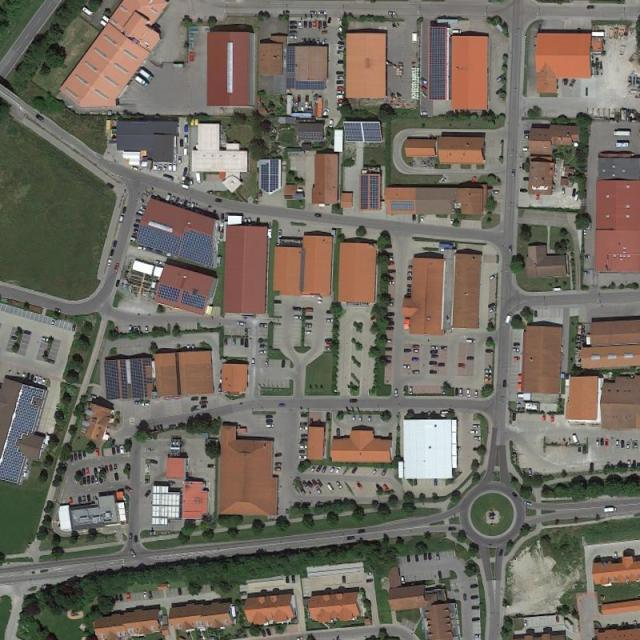vehicle: (134, 75, 150, 89), (138, 68, 154, 82), (571, 433, 582, 446), (81, 6, 94, 17), (504, 312, 513, 326), (495, 73, 506, 83), (327, 482, 336, 494), (355, 481, 365, 491), (381, 466, 389, 478), (36, 114, 46, 123), (382, 483, 391, 493), (605, 506, 617, 513), (574, 190, 581, 202), (335, 481, 344, 490), (130, 549, 138, 559), (299, 486, 307, 496), (470, 175, 478, 185), (419, 77, 429, 85), (125, 486, 134, 494), (106, 182, 115, 190), (302, 480, 310, 489), (370, 313, 379, 321), (489, 273, 498, 281), (420, 90, 428, 99), (420, 85, 429, 93), (180, 183, 190, 190), (372, 466, 379, 476), (162, 163, 169, 173), (148, 591, 154, 602), (337, 33, 345, 41), (47, 358, 56, 365), (316, 464, 323, 473), (126, 592, 132, 602), (94, 476, 100, 486), (523, 500, 533, 506), (184, 146, 190, 156), (266, 628, 273, 636), (145, 490, 152, 498), (150, 458, 158, 465), (335, 466, 342, 474), (351, 466, 358, 474), (470, 583, 478, 590), (511, 491, 518, 499), (488, 302, 496, 309), (323, 109, 330, 117), (496, 88, 504, 95), (174, 197, 180, 206), (170, 196, 176, 205), (119, 215, 125, 224), (107, 258, 113, 267), (317, 479, 323, 488), (114, 473, 120, 482), (316, 486, 322, 495), (258, 323, 268, 328), (237, 321, 247, 326), (95, 448, 100, 458), (90, 475, 95, 485), (472, 424, 482, 429), (528, 468, 533, 478), (466, 339, 476, 344), (197, 174, 202, 184), (184, 134, 189, 144), (307, 481, 314, 488), (489, 307, 496, 314), (122, 206, 128, 214), (114, 263, 120, 271), (330, 466, 336, 474), (322, 466, 328, 474), (311, 465, 317, 473), (414, 554, 420, 562), (338, 18, 344, 26), (338, 25, 344, 33), (392, 22, 398, 30), (342, 575, 347, 584), (285, 575, 290, 584), (261, 629, 266, 638), (26, 373, 31, 382), (258, 350, 267, 355), (72, 322, 77, 331), (113, 240, 118, 249), (120, 446, 125, 455), (634, 440, 639, 449), (620, 440, 625, 449), (470, 594, 479, 599), (401, 576, 406, 585), (436, 552, 441, 561), (406, 554, 411, 563), (347, 536, 356, 541), (385, 302, 394, 307), (130, 166, 139, 171), (420, 213, 425, 222), (323, 342, 334, 346), (384, 313, 395, 317), (406, 277, 417, 281), (406, 272, 417, 276), (312, 479, 318, 486), (110, 439, 116, 446), (87, 494, 92, 502), (291, 575, 296, 583), (10, 335, 18, 340), (24, 330, 32, 335), (42, 337, 50, 342), (51, 318, 56, 326), (155, 260, 163, 265), (116, 279, 121, 287), (142, 402, 150, 407), (199, 401, 209, 405), (337, 428, 341, 438), (274, 453, 282, 458), (474, 436, 482, 441), (350, 398, 358, 403), (590, 462, 594, 472), (463, 594, 468, 602), (366, 578, 374, 583), (627, 460, 632, 468), (383, 347, 393, 351), (386, 270, 396, 274), (404, 349, 412, 354), (472, 617, 480, 622), (338, 86, 346, 91), (313, 20, 318, 28), (389, 11, 397, 16), (523, 177, 533, 181), (452, 30, 462, 34), (129, 533, 133, 542), (245, 338, 249, 347), (266, 358, 270, 367), (327, 310, 336, 314), (138, 246, 147, 250), (325, 338, 334, 342), (324, 347, 333, 351), (87, 476, 91, 485), (202, 404, 208, 410), (300, 426, 309, 430), (470, 430, 479, 434), (471, 606, 480, 610), (449, 526, 458, 530), (430, 346, 439, 350), (385, 326, 394, 330), (407, 290, 416, 294), (408, 266, 417, 270), (455, 388, 459, 397), (459, 389, 463, 398), (511, 348, 520, 352), (337, 51, 346, 55), (524, 130, 533, 134), (55, 308, 62, 313), (34, 376, 39, 383), (191, 397, 198, 402), (300, 455, 307, 460), (312, 39, 317, 46), (322, 31, 329, 36), (179, 199, 184, 206), (178, 587, 182, 595), (143, 591, 147, 599), (119, 594, 123, 602), (39, 377, 43, 385), (294, 307, 302, 311), (306, 316, 314, 320), (305, 323, 313, 327), (245, 328, 249, 336), (233, 338, 237, 346), (145, 326, 149, 334), (129, 325, 133, 333), (282, 360, 286, 368), (306, 308, 314, 312), (294, 316, 302, 320), (278, 230, 282, 238), (117, 446, 121, 454), (74, 453, 78, 461), (70, 454, 74, 462), (86, 468, 90, 476), (105, 466, 109, 474), (114, 464, 118, 472), (279, 404, 287, 408), (208, 465, 216, 469), (266, 419, 274, 423), (169, 163, 173, 171), (178, 156, 182, 164), (626, 442, 630, 450), (601, 438, 605, 446), (596, 438, 600, 446), (583, 446, 587, 454), (550, 414, 554, 422), (542, 414, 546, 422), (358, 414, 362, 422), (438, 570, 442, 578), (428, 553, 432, 561), (499, 549, 503, 557), (358, 530, 366, 534), (394, 390, 398, 398), (410, 386, 414, 394), (442, 387, 446, 395), (440, 347, 448, 351), (430, 361, 438, 365), (430, 370, 438, 374), (403, 366, 411, 370), (383, 360, 391, 364), (386, 298, 394, 302), (431, 355, 439, 359), (412, 358, 420, 362), (485, 374, 493, 378), (485, 370, 493, 374), (458, 364, 466, 368), (486, 350, 494, 354), (534, 310, 538, 318), (582, 272, 590, 276), (474, 634, 482, 638), (583, 255, 591, 259), (336, 81, 344, 85), (330, 120, 334, 128), (185, 125, 189, 133), (180, 139, 184, 147), (338, 46, 346, 50), (317, 38, 321, 46), (307, 38, 311, 46), (290, 31, 298, 35), (290, 26, 298, 30), (290, 21, 298, 25), (318, 22, 322, 30), (323, 22, 327, 30), (491, 190, 499, 194), (523, 147, 531, 151), (190, 202, 194, 210), (383, 356, 393, 359), (512, 168, 515, 178), (82, 496, 86, 503), (78, 497, 82, 504), (296, 636, 303, 640), (31, 375, 35, 382), (305, 331, 312, 335), (187, 345, 191, 352), (114, 326, 118, 333), (252, 359, 256, 366), (82, 477, 86, 484), (315, 214, 322, 218), (221, 214, 225, 221), (112, 447, 116, 454), (82, 468, 86, 475), (94, 468, 98, 475), (301, 422, 308, 426), (302, 414, 309, 418), (299, 450, 306, 454), (275, 462, 282, 466), (578, 447, 582, 454), (474, 391, 478, 398), (485, 378, 492, 382), (467, 357, 474, 361), (514, 342, 521, 346), (412, 350, 419, 354), (555, 616, 559, 623), (587, 6, 594, 10), (633, 460, 637, 467), (385, 245, 392, 249), (337, 71, 344, 75), (298, 95, 302, 102), (306, 95, 310, 102), (190, 178, 194, 185), (154, 163, 158, 170), (158, 164, 162, 171), (508, 245, 512, 252), (562, 187, 566, 194), (325, 319, 334, 322), (79, 451, 82, 460), (174, 163, 177, 172), (411, 371, 420, 374), (386, 282, 395, 285), (407, 285, 416, 288), (503, 379, 506, 388), (467, 389, 470, 398), (318, 11, 327, 14), (70, 498, 73, 506), (241, 338, 244, 346), (225, 337, 228, 345), (138, 326, 141, 334), (249, 218, 252, 226), (216, 198, 222, 202), (134, 402, 142, 405), (266, 415, 274, 418), (300, 446, 308, 449), (274, 468, 282, 471), (267, 425, 275, 428), (606, 438, 609, 446), (368, 414, 371, 422), (424, 552, 427, 560), (614, 553, 618, 559), (438, 363, 446, 366), (384, 340, 392, 343), (514, 357, 520, 361), (412, 346, 420, 349), (337, 91, 345, 94), (337, 96, 345, 99), (310, 102, 313, 110), (302, 104, 305, 112), (338, 42, 346, 45), (304, 38, 307, 46), (290, 36, 298, 39), (305, 22, 308, 30), (328, 18, 332, 24), (310, 11, 318, 14), (537, 192, 540, 200), (521, 189, 529, 192), (135, 535, 138, 542), (115, 594, 118, 601), (192, 344, 195, 351), (245, 219, 248, 226), (617, 441, 620, 448), (353, 414, 356, 421), (431, 351, 438, 354), (338, 76, 345, 79), (299, 22, 302, 29), (309, 22, 312, 29), (451, 217, 454, 224), (413, 214, 416, 221), (573, 189, 576, 196), (525, 136, 532, 139), (421, 112, 428, 115), (43, 380, 46, 386), (111, 250, 114, 256), (83, 451, 86, 457), (110, 466, 113, 472), (302, 435, 308, 438), (524, 621, 527, 627), (338, 61, 344, 64), (202, 397, 207, 400), (337, 104, 343, 106)
